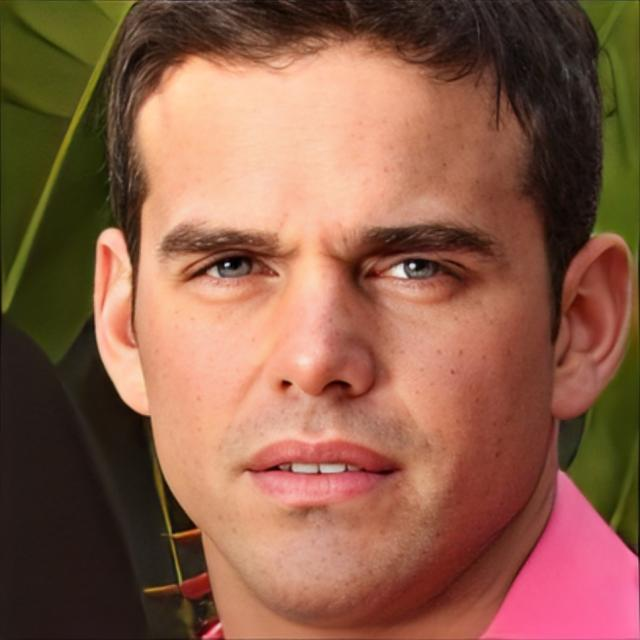disgust: (136, 28, 568, 622)
